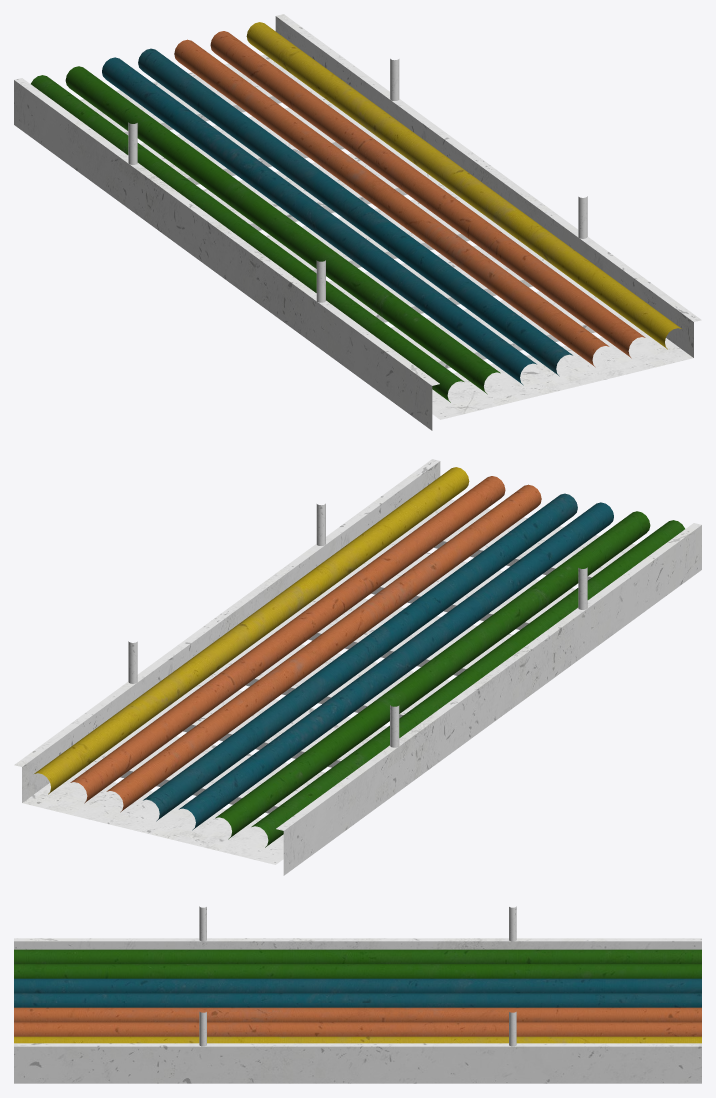
File: SM_Ceiling_Cables.glb
The picture shows the model from 3 angles, top to bottom: view 1: azimuth 30°, elevation 25°; view 2: azimuth 150°, elevation 25°; view 3: azimuth 270°, elevation 25°; orthographic projection. The views are drawn at different scales.
Parts seen in each view (by area): view 1: SM_Ceiling_Cables; view 2: SM_Ceiling_Cables; view 3: SM_Ceiling_Cables.
Part boxes in pixels (x1=…): SM_Ceiling_Cables: x1=14, y1=14, x2=701, y2=430; SM_Ceiling_Cables: x1=14, y1=459, x2=701, y2=875; SM_Ceiling_Cables: x1=14, y1=906, x2=701, y2=1083.
Size of the model in its own units: 0.3725 by 0.1134 by 1.
Materials: 5 (5 with a texture image).
